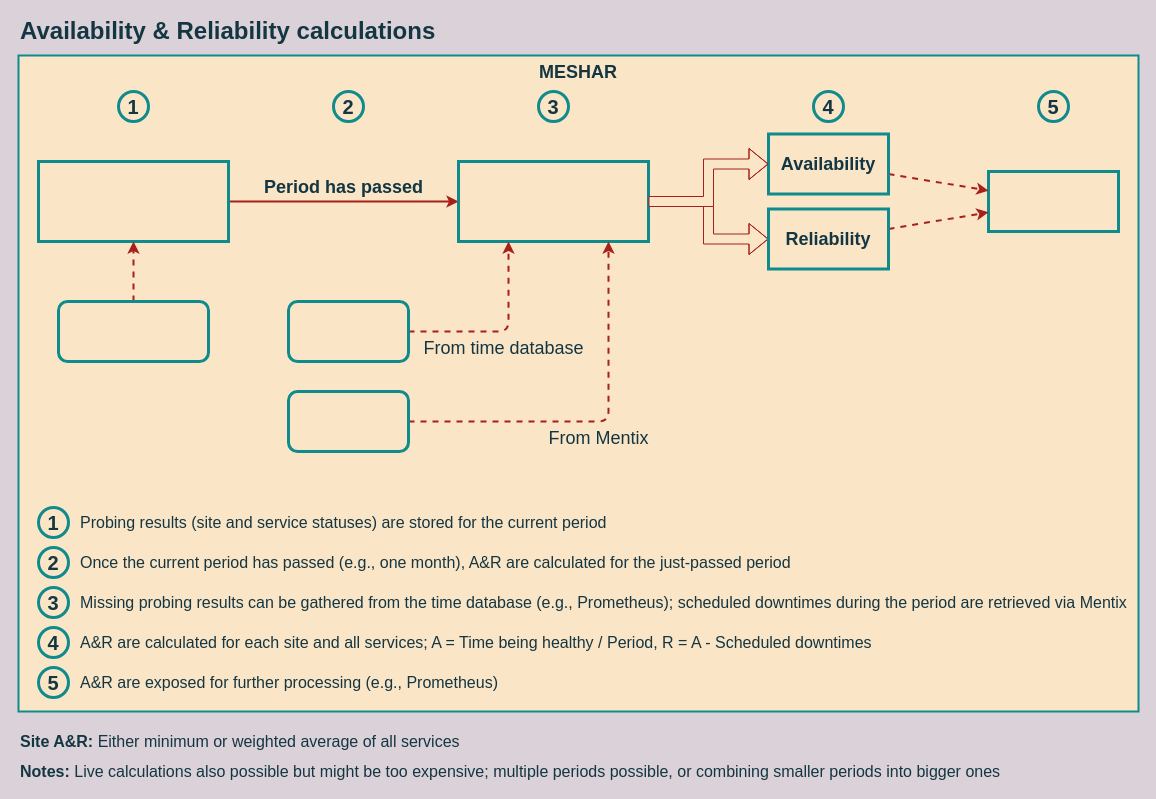
Image size: 1156x799. Some labels were removed from this diagram. The shapes that lost their labels are listed below. From the top down, each one's box as (x1, y1, x2, y2) in pixels, then its label:
(36, 160, 230, 242): Keep health status for all sites and services for current period
(456, 160, 650, 242): Calculate A&R for passed period
(986, 170, 1120, 232): Exposition Endpoint
(56, 300, 210, 362): New monitoring results
(286, 300, 410, 362): Missing data
(286, 390, 410, 452): Scheduled downtimes
